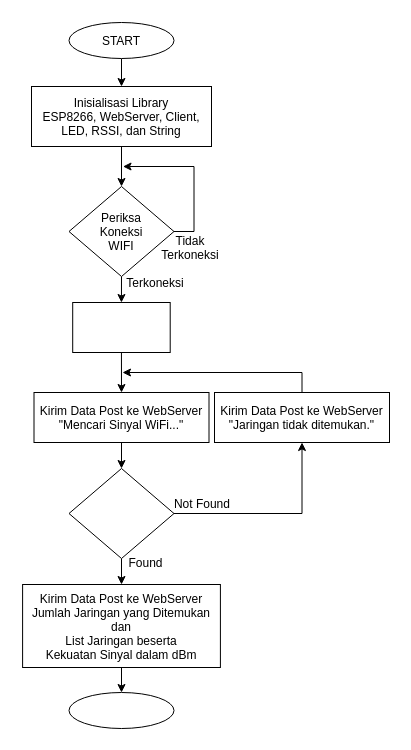
The diagram is 411 pixels wide and 750 high, and some of its shapes have lost their labels. The centre of each missing label's shape, as x and y in pixels:
END: the point at 121,710
LED Menyala: the point at 121,327
Memindai Jaringan WiFi: the point at 121,513
